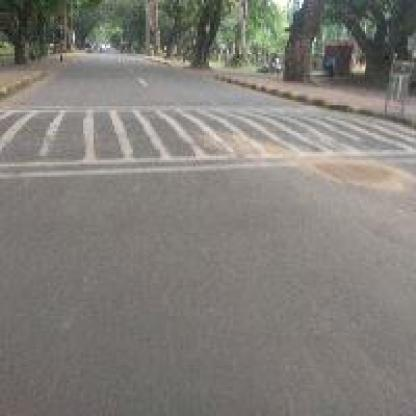Speed Bump: (0, 100, 414, 181)
